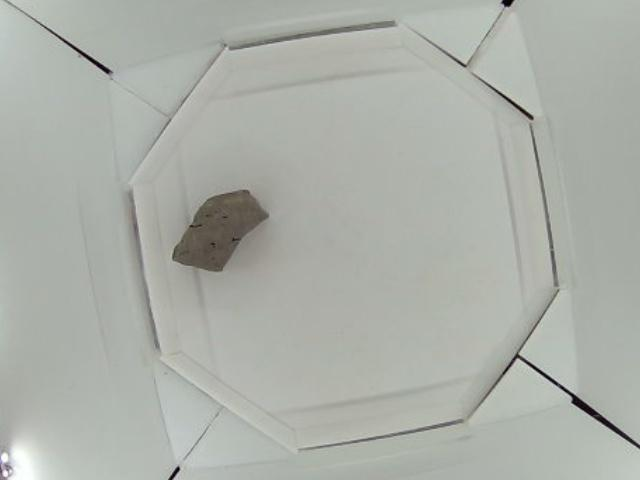China: (172, 187, 268, 273)
